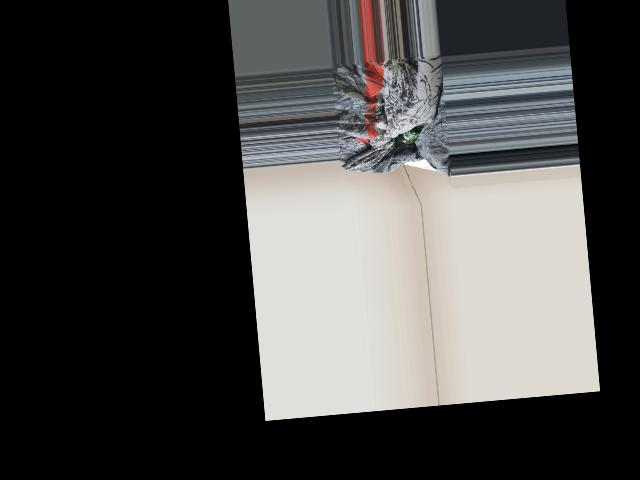beer: (392, 125, 423, 147)
